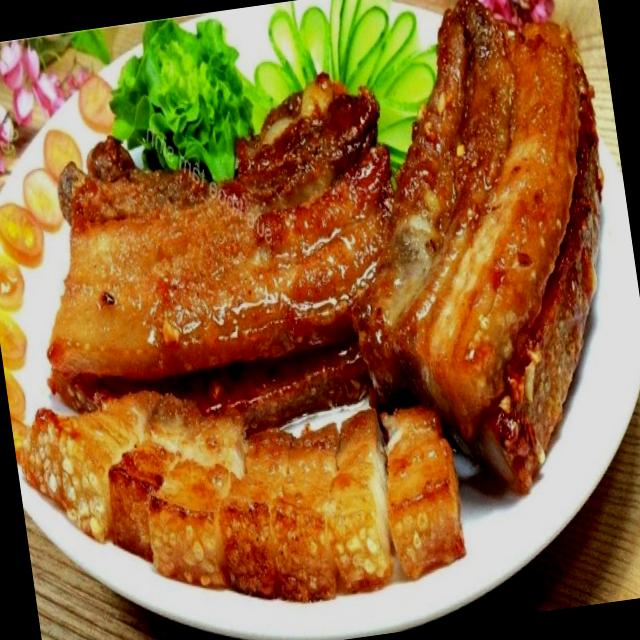thit chien: (354, 0, 601, 492), (49, 76, 392, 378), (22, 397, 149, 541), (149, 414, 245, 586), (109, 395, 202, 559), (381, 408, 466, 578), (220, 430, 295, 597), (327, 410, 395, 590), (269, 445, 338, 600)
